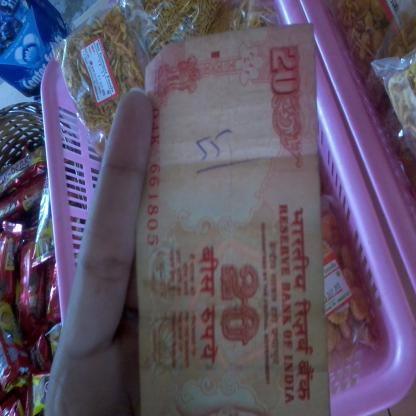Old20Front: (134, 23, 332, 416)
